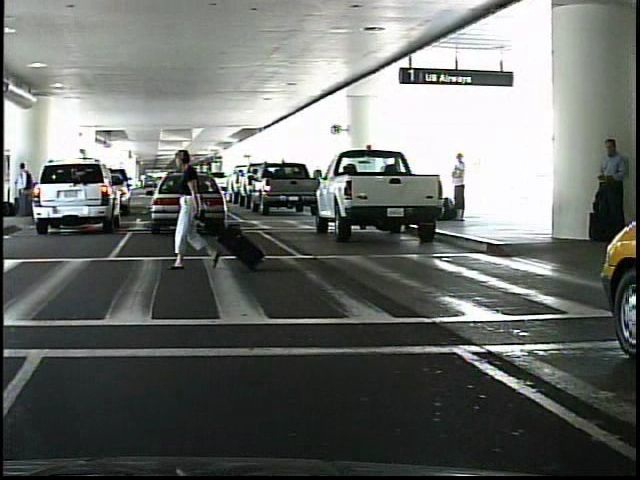person: (177, 151, 226, 274), (586, 134, 625, 240), (447, 152, 476, 223), (19, 161, 37, 222)
